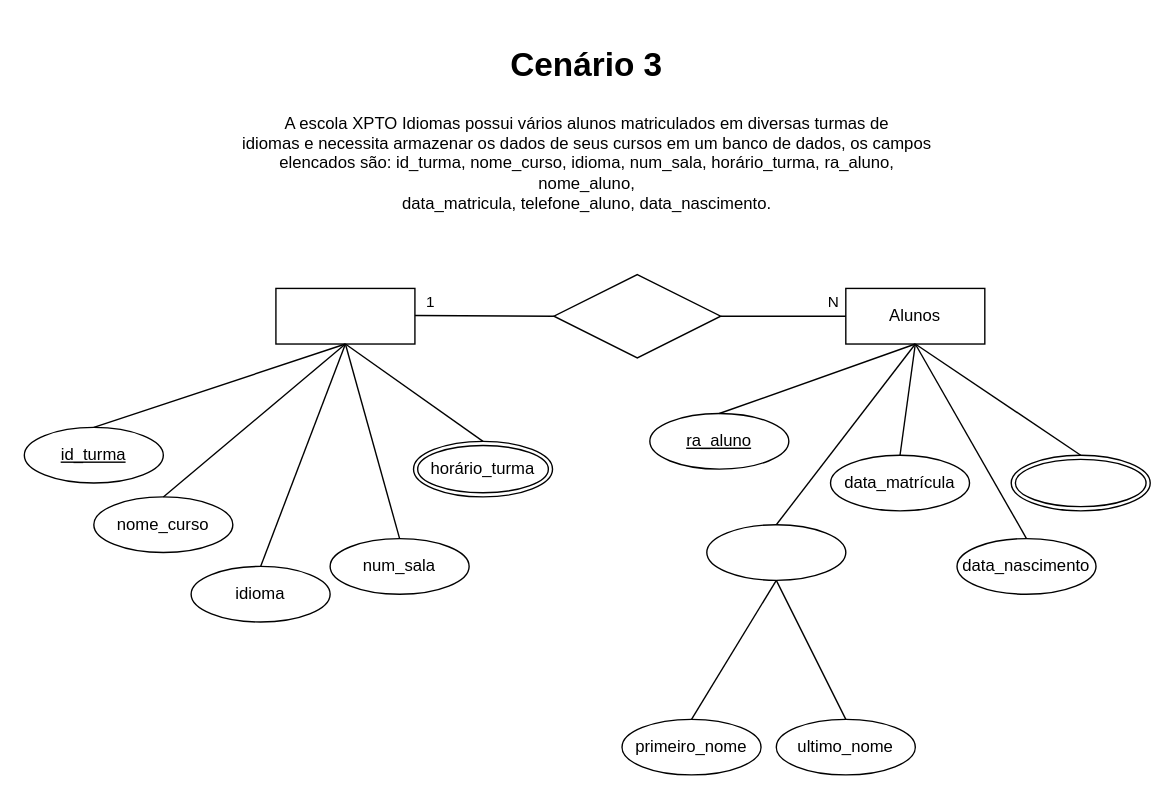
This 1175x799 diagram has some shape labels left out. Here are the shapes that lost their labels. From the top down, the centre of each, then its label:
the point at 345,315: Cursos
the point at 637,315: Tem
the point at 1080,482: telefone
the point at 775,551: nome
